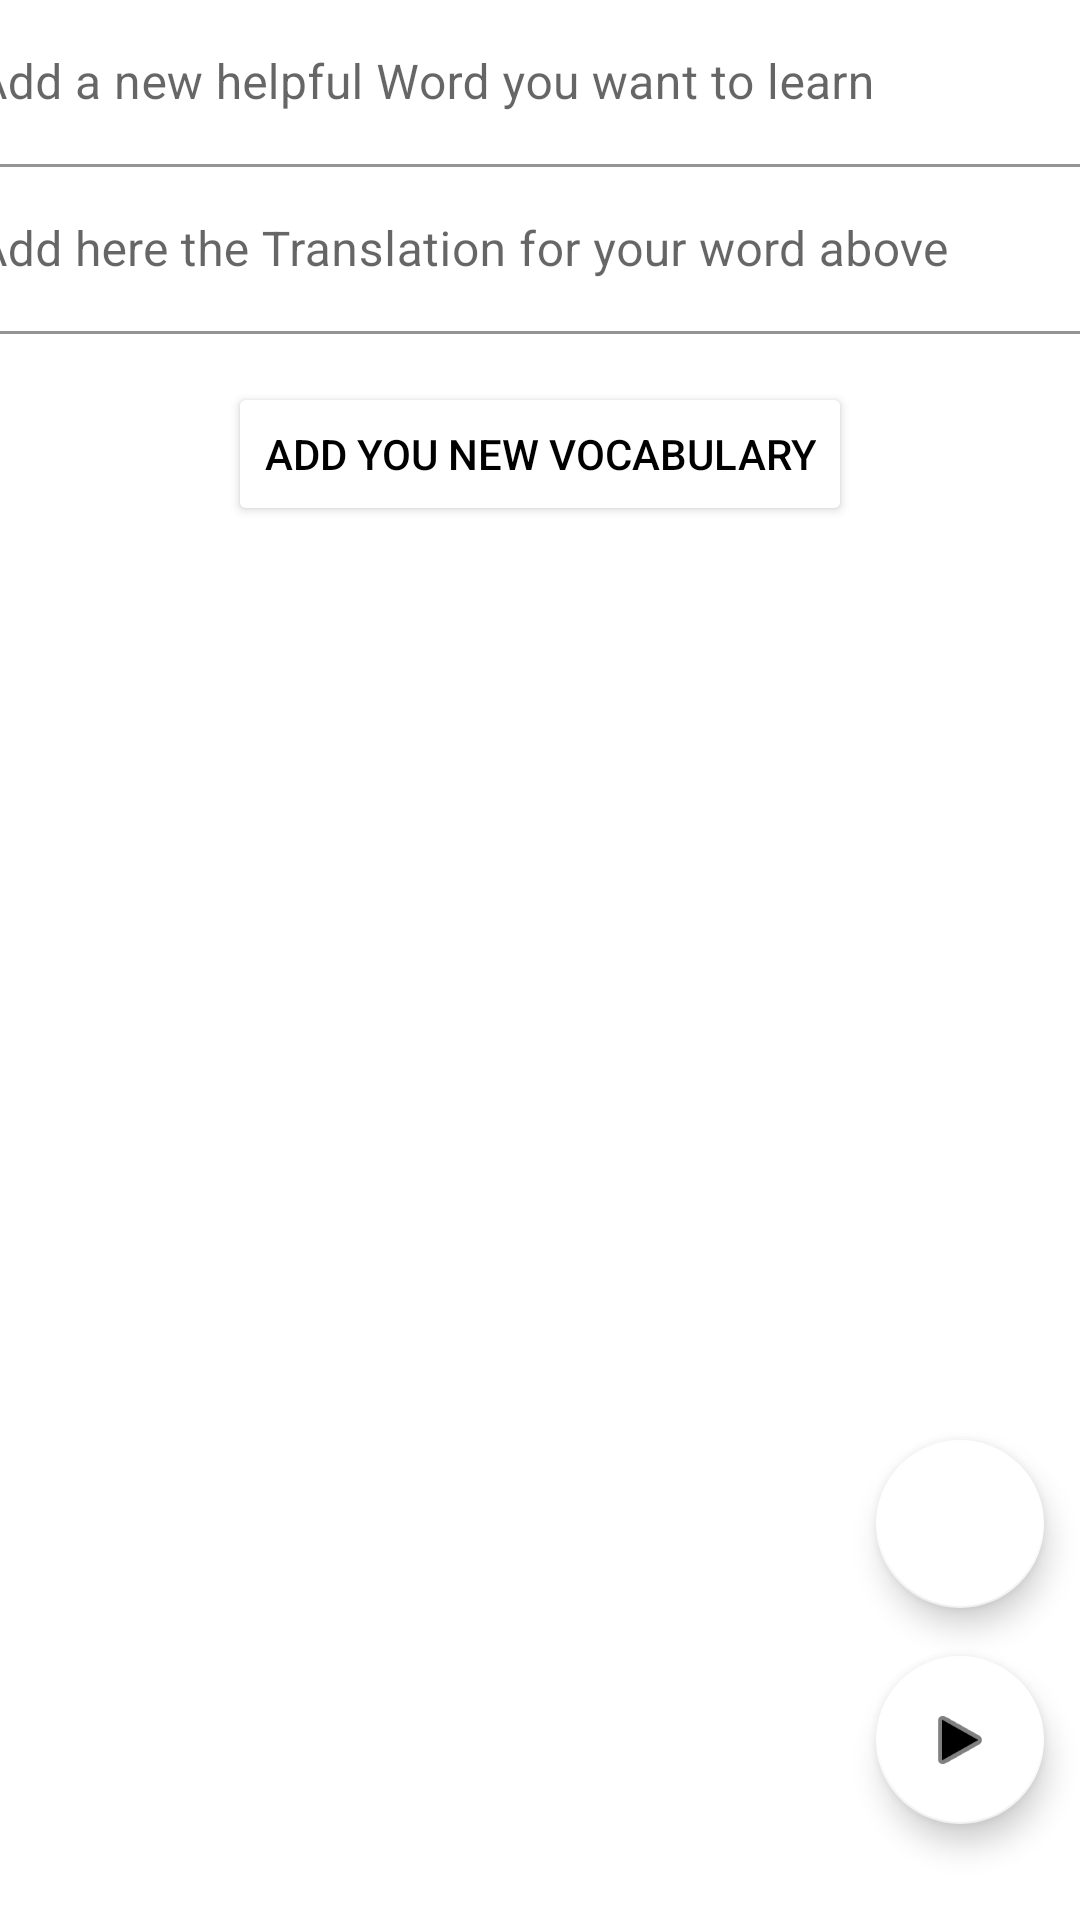

Icons on this 1080*1920 Android screen, each with its box as (x1, y1, x2, y2):
play: (882, 1716, 1044, 1824)
